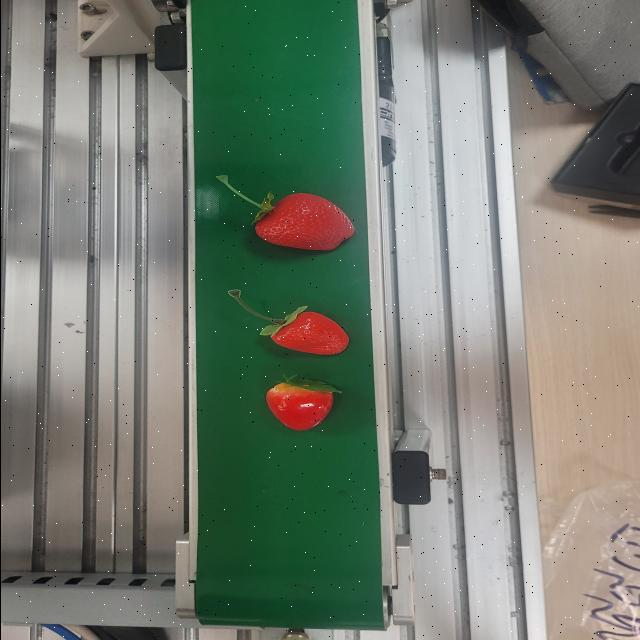Large Ripe Strawberry: (213, 174, 358, 252)
Small Ripe Strawberry: (253, 306, 356, 360), (259, 374, 339, 432)
